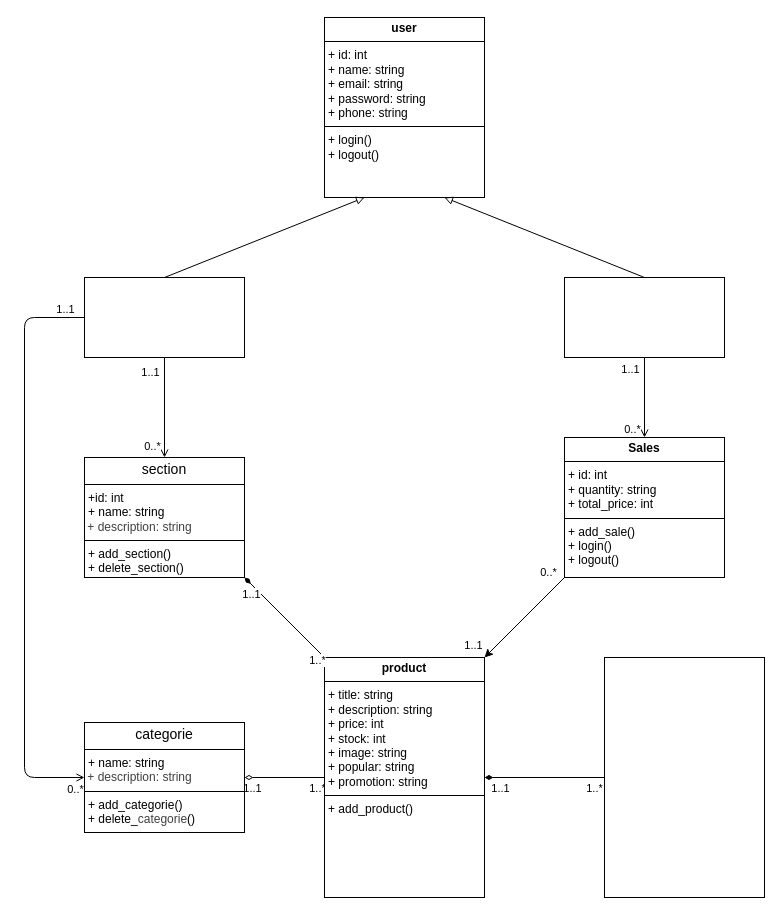
Image size: 782x915. Some labels were removed from this diagram. Here are the shapes that lost their labels. From the top down, the box of each, then its label:
(84, 276, 244, 358): admin
(564, 276, 724, 358): user + signup()
(604, 656, 764, 898): promotion + id: int + newPrice: int + startDate: int + endDate: string + add()
